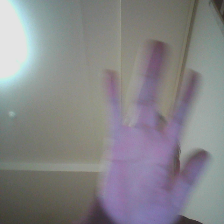hand: (96, 35, 211, 223)
